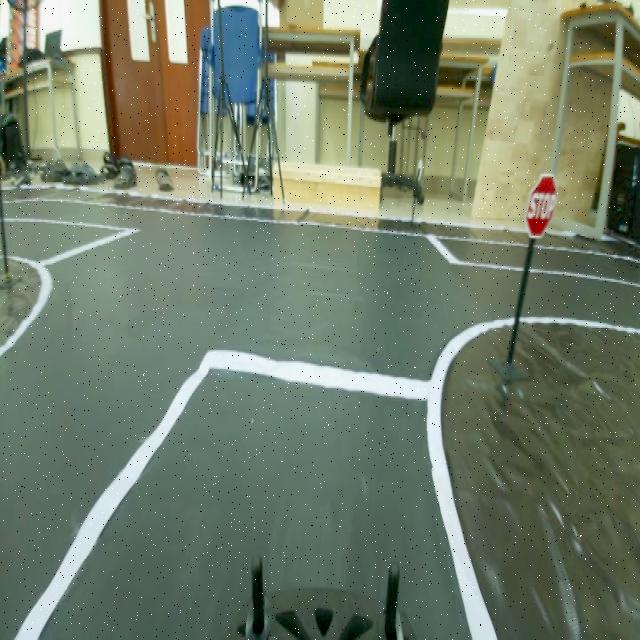stop: (523, 166, 560, 240)
